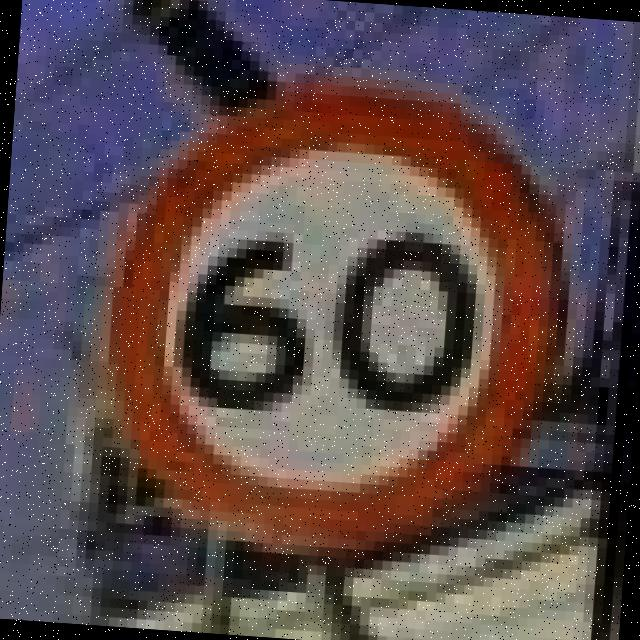Ograniczenie predkosci do 60: (88, 61, 582, 553)
